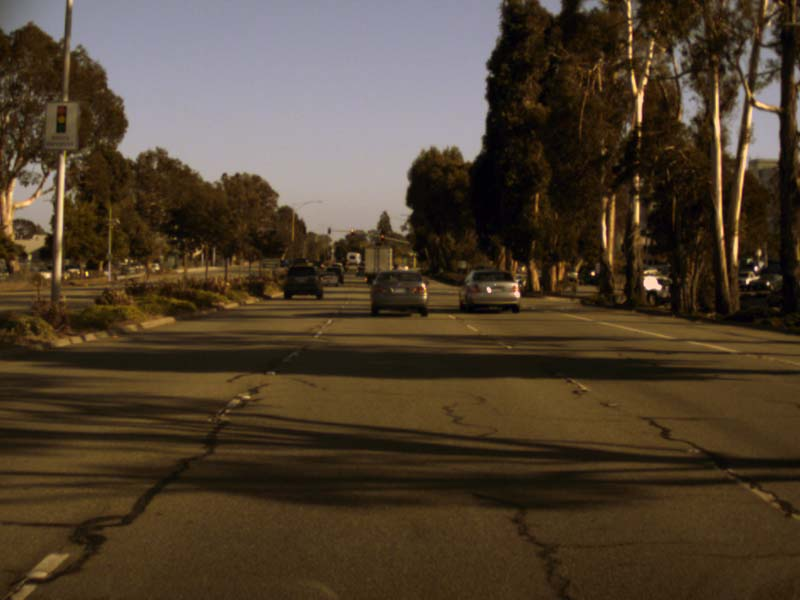Red: (379, 234, 384, 241), (350, 228, 353, 235)
